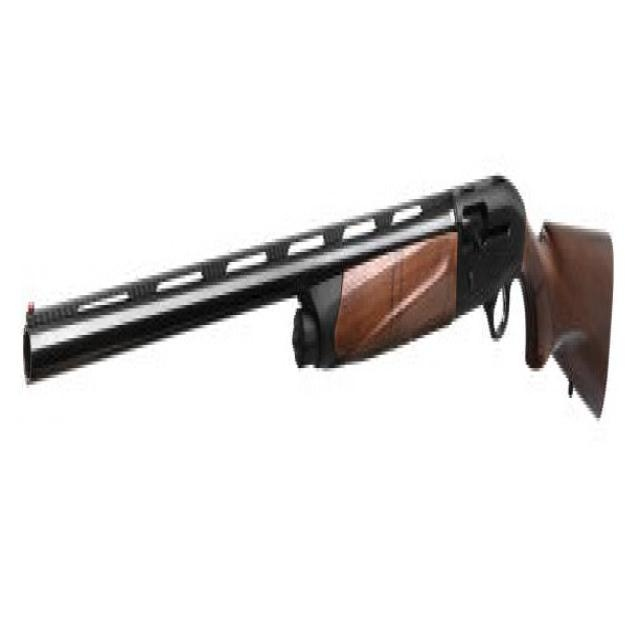rifle: (21, 153, 618, 434)
